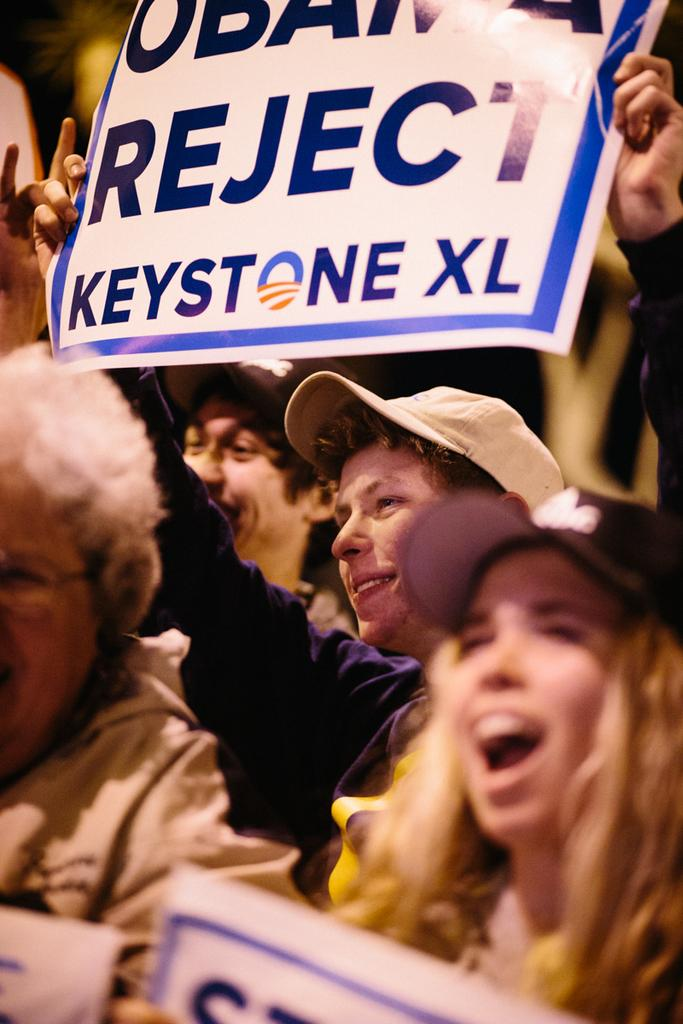Hat: (284, 367, 561, 515), (148, 354, 305, 438)
